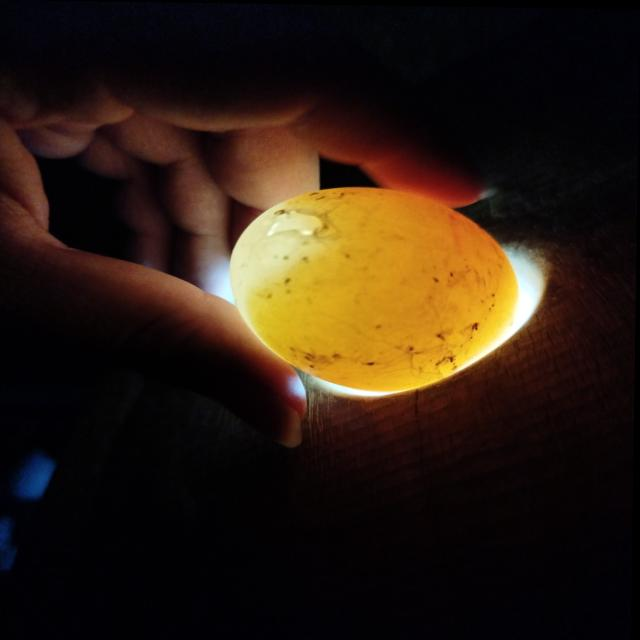Rachadura: (411, 343, 467, 377), (268, 208, 321, 237)
